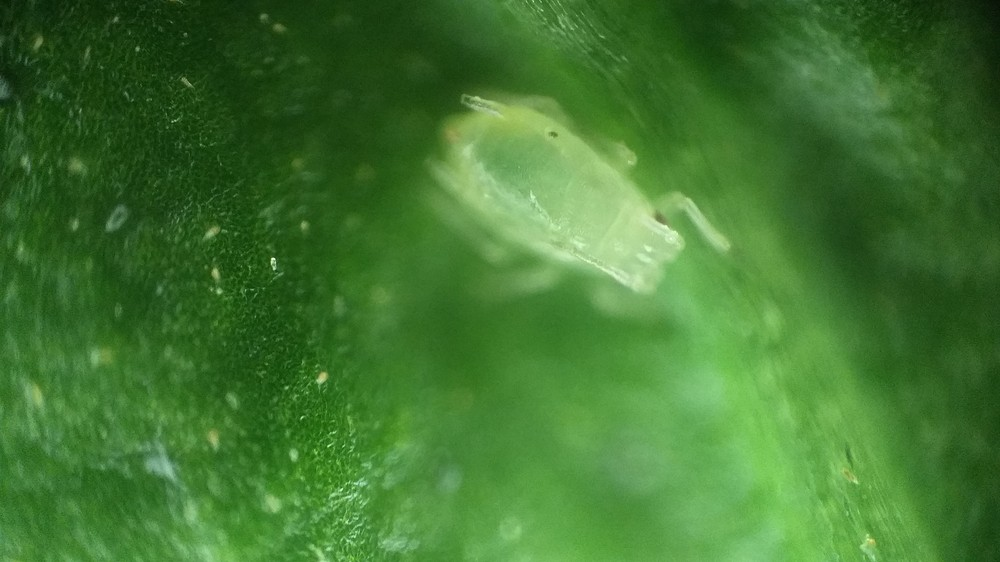Pulgon: (381, 63, 750, 379)
